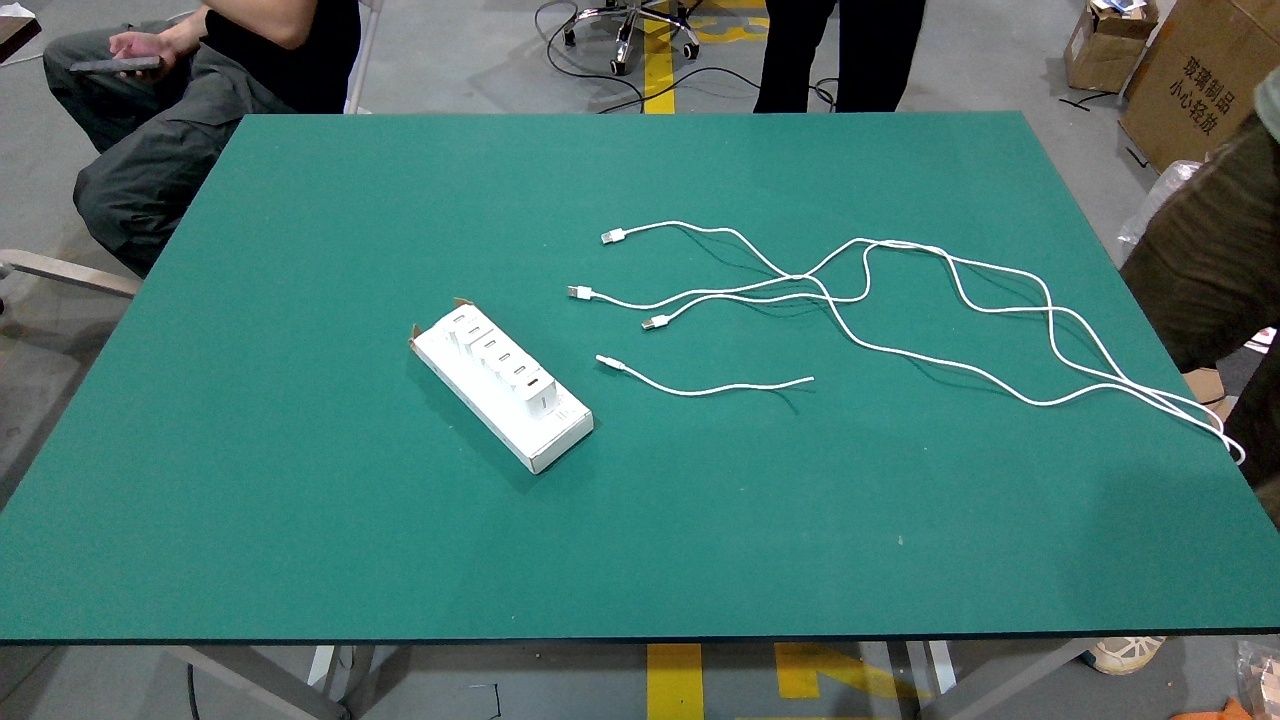usb_a_plug: (594, 351, 633, 375), (642, 311, 676, 332), (601, 224, 633, 245), (566, 284, 601, 302)
